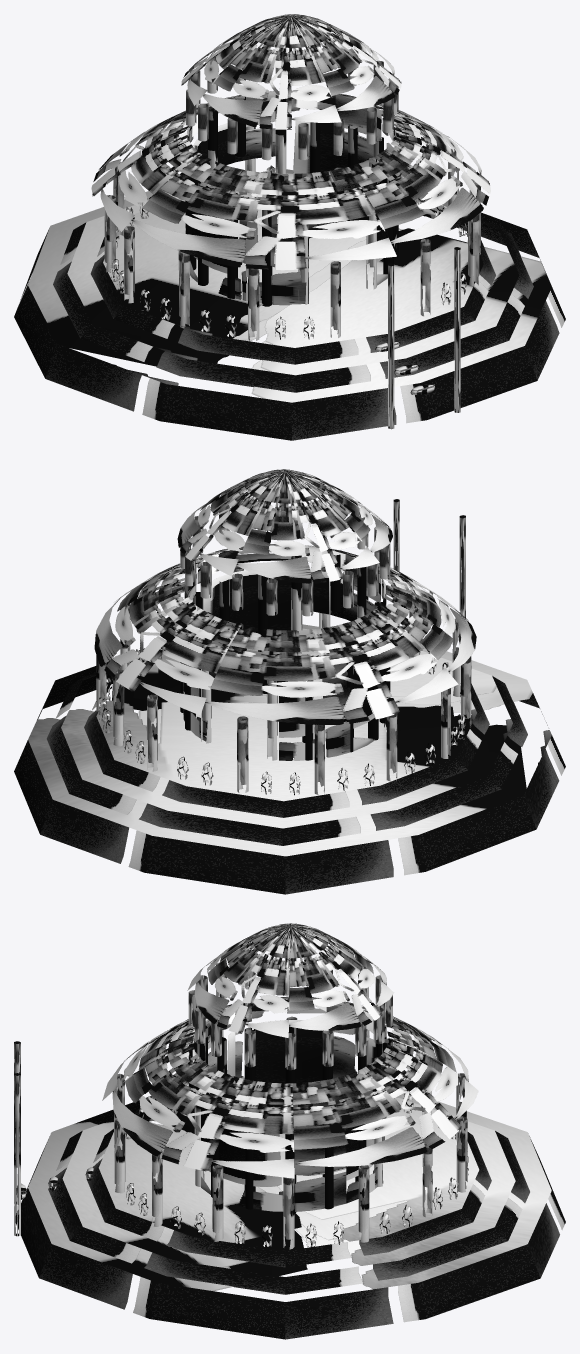
File: wonder.dae
3 views of the same model, one above another, from view 1: azimuth 30°, elevation 25°; view 2: azimuth 150°, elevation 25°; view 3: azimuth 270°, elevation 25° (orthographic).
Parts seen in each view (by area): view 1: wonder; view 2: wonder; view 3: wonder.
Boxes of the visible parts, x1,y1,x2,y2 form: wonder: [14, 14, 565, 440]; wonder: [14, 469, 565, 894]; wonder: [14, 923, 565, 1339].
Bounding box in the file's own units: 55.11 × 54.09 × 31.99.
